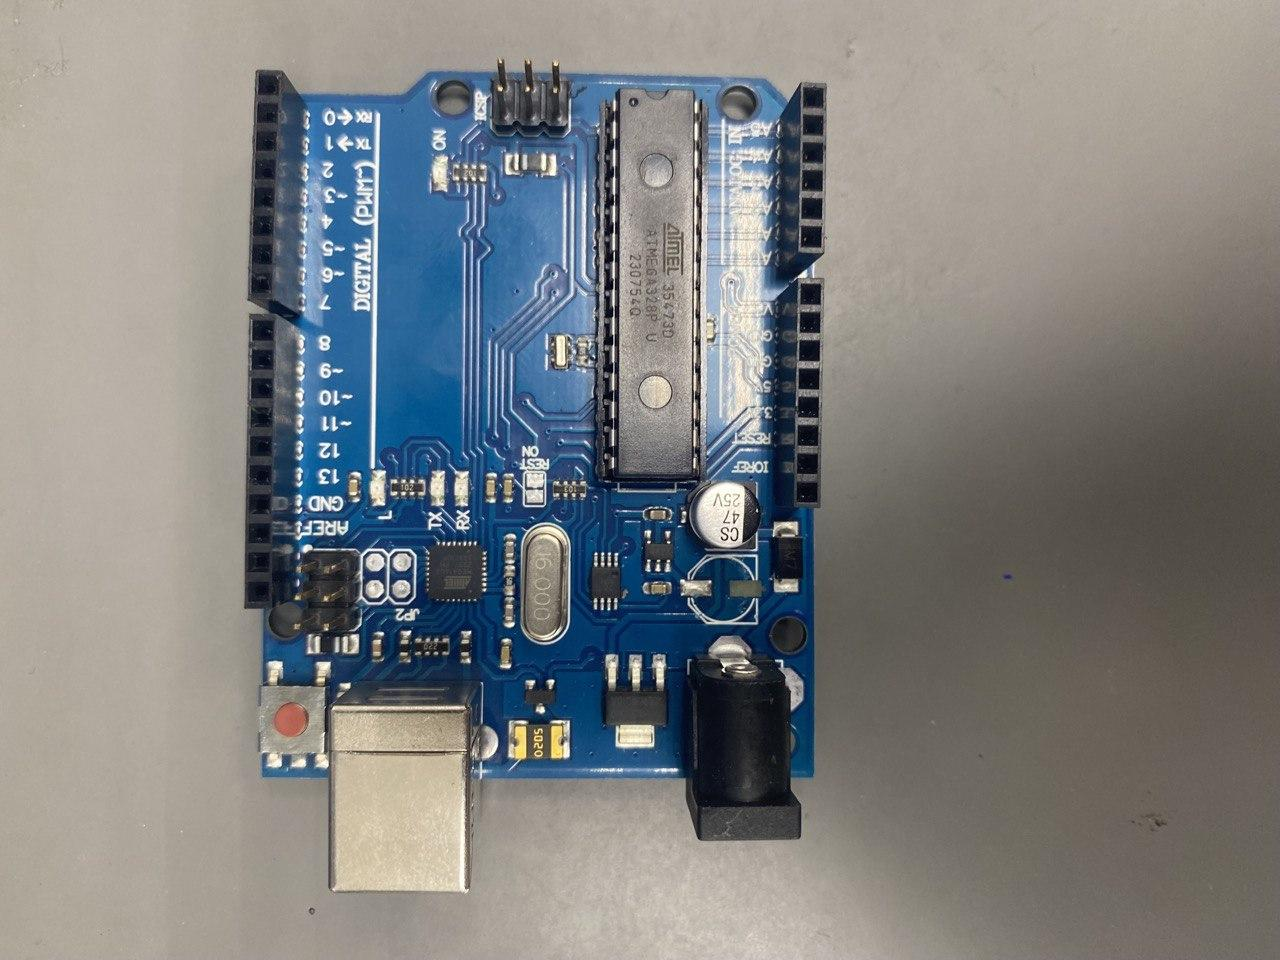ATmega328 chip: (594, 88, 709, 483)
Arduino board: (243, 58, 827, 894)
USB: (328, 680, 482, 894)
capacitor: (686, 480, 761, 551)
pins: (242, 312, 299, 609), (247, 69, 307, 319), (773, 277, 824, 510), (776, 83, 828, 279)
resistor: (389, 477, 427, 498), (413, 635, 450, 656), (452, 162, 488, 183), (553, 480, 586, 498)
